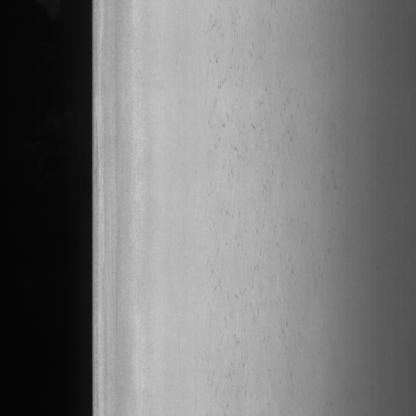silk_spot: (201, 8, 320, 402)
